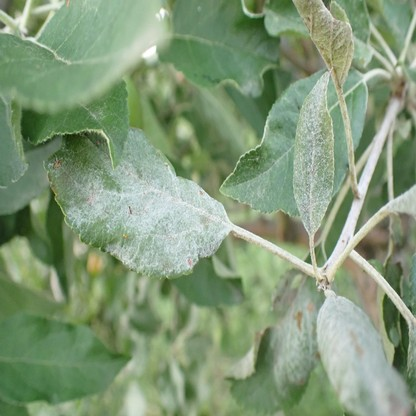powder: (44, 126, 231, 277), (318, 297, 413, 416), (222, 121, 294, 213), (294, 69, 334, 230), (271, 276, 319, 397), (292, 0, 354, 86), (81, 101, 128, 167), (386, 185, 416, 217), (241, 73, 261, 99)
